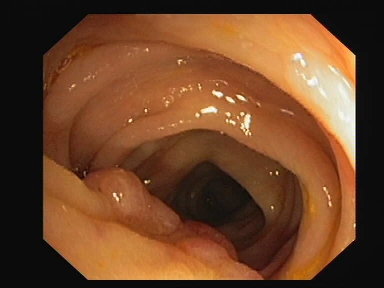polyp: (82, 167, 180, 235), (179, 222, 264, 278)
